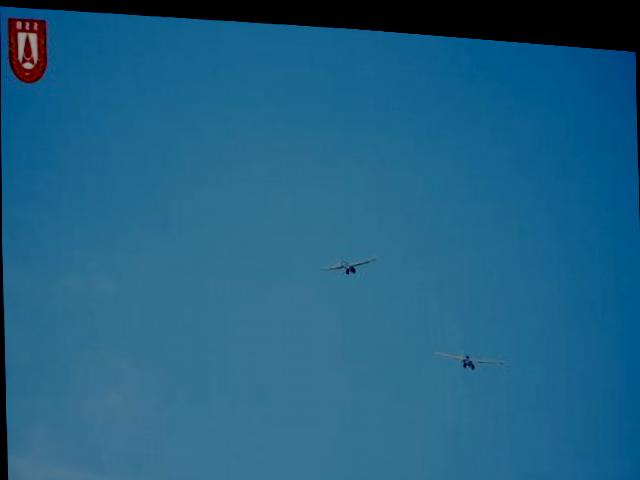uav: (432, 333, 504, 362), (320, 241, 378, 273)
